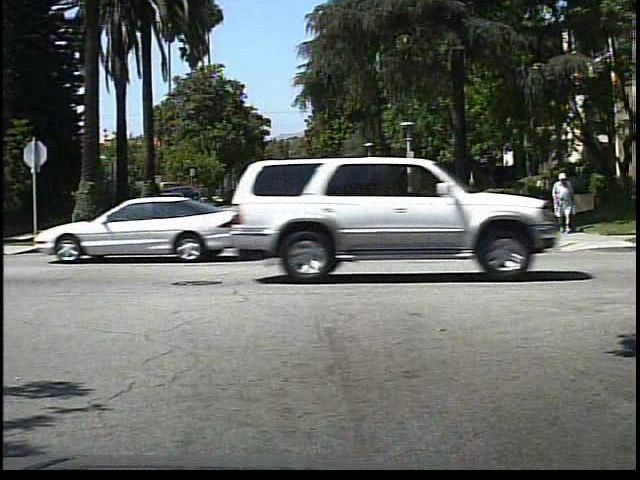person: (548, 167, 578, 235)
